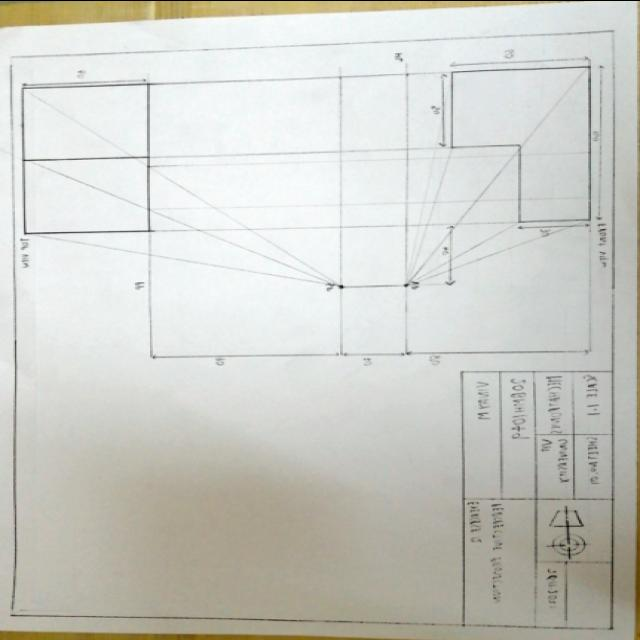Drawings: (17, 61, 609, 369)
